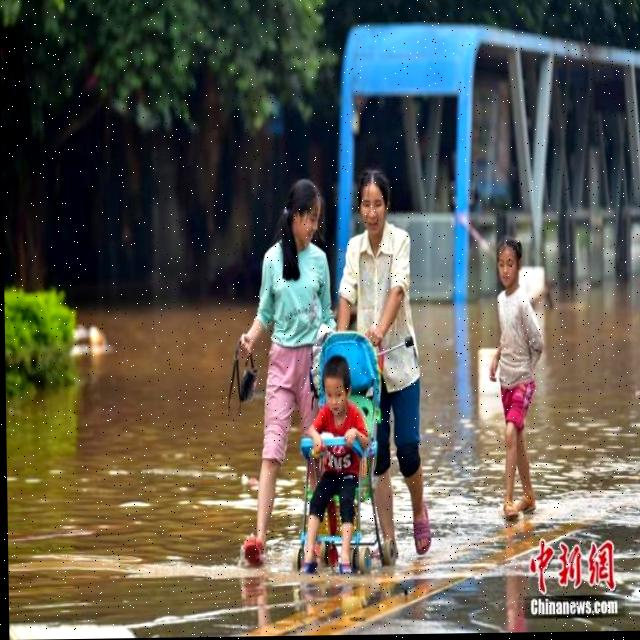civilian: (215, 173, 357, 599), (332, 157, 438, 576), (485, 228, 551, 525), (292, 354, 376, 587)
